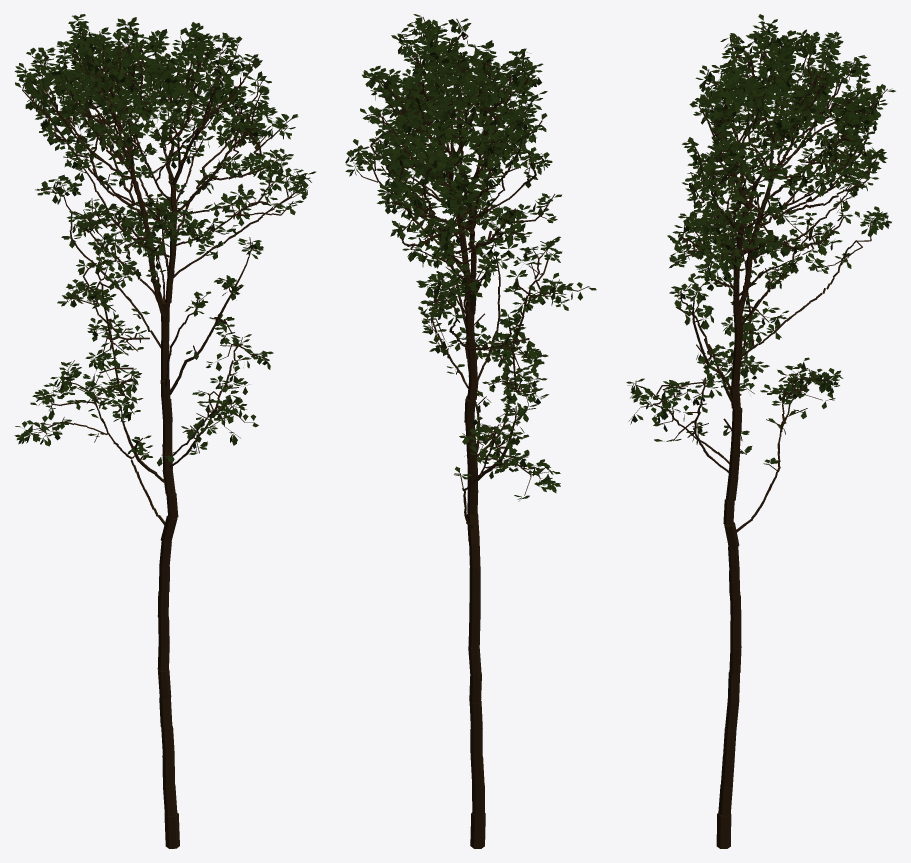
Rendered from 2022_tree_93.obj.
The picture shows the model from 3 angles, left to right: view 1: azimuth 30°, elevation 25°; view 2: azimuth 150°, elevation 25°; view 3: azimuth 270°, elevation 25°; orthographic projection. The views are drawn at different scales.
Parts seen in each view (by area): view 1: Leaves, TrunkAndBranches; view 2: Leaves, TrunkAndBranches; view 3: Leaves, TrunkAndBranches.
Boxes of the visible parts, left/top/right/bottom form: Leaves: left=14, top=14, right=315, bottom=466; TrunkAndBranches: left=22, top=18, right=307, bottom=848; Leaves: left=345, top=14, right=596, bottom=499; TrunkAndBranches: left=349, top=17, right=589, bottom=848; Leaves: left=626, top=14, right=895, bottom=464; TrunkAndBranches: left=628, top=23, right=887, bottom=848.
Bounding box in the file's own units: 8.12 × 24.76 × 7.64.
